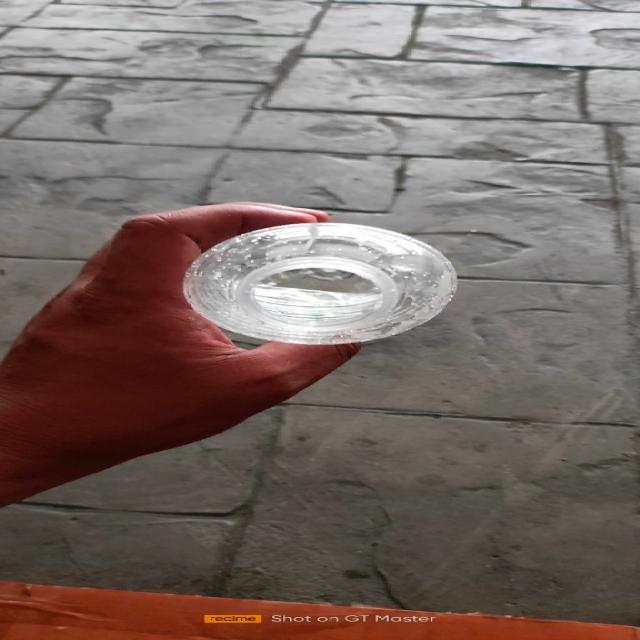bottle: (185, 222, 459, 343)
